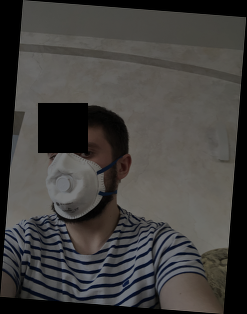with_mask: (45, 141, 113, 224)
